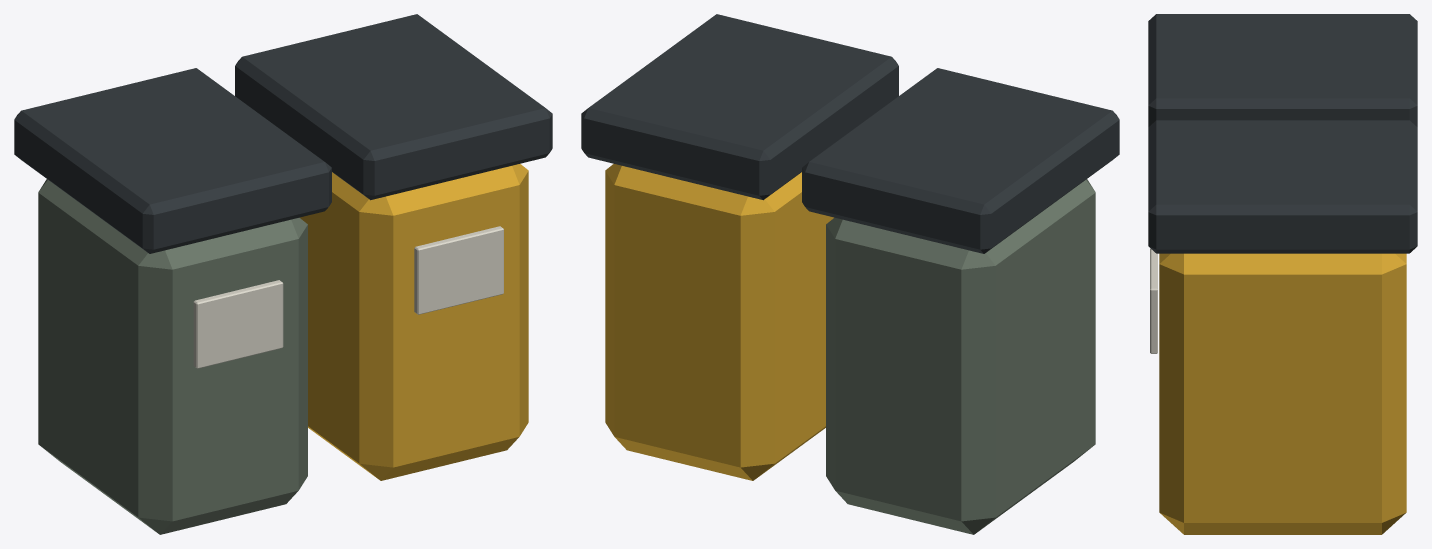
The model's file is PRP_CITY_013_recycling_bin_pair.glb.
The picture shows the model from 3 angles, left to right: view 1: azimuth 30°, elevation 25°; view 2: azimuth 150°, elevation 25°; view 3: azimuth 270°, elevation 25°; orthographic projection.
Parts seen in each view (by area): view 1: PRP_CITY_013_recycling_bin_pair_RenderMesh; view 2: PRP_CITY_013_recycling_bin_pair_RenderMesh; view 3: PRP_CITY_013_recycling_bin_pair_RenderMesh.
Boxes of the visible parts, left/top/right/bottom form: PRP_CITY_013_recycling_bin_pair_RenderMesh: left=14, top=14, right=552, bottom=534; PRP_CITY_013_recycling_bin_pair_RenderMesh: left=581, top=14, right=1119, bottom=534; PRP_CITY_013_recycling_bin_pair_RenderMesh: left=1148, top=14, right=1417, bottom=534.
Size of the model in its own units: 1.04 by 0.84 by 0.6.
